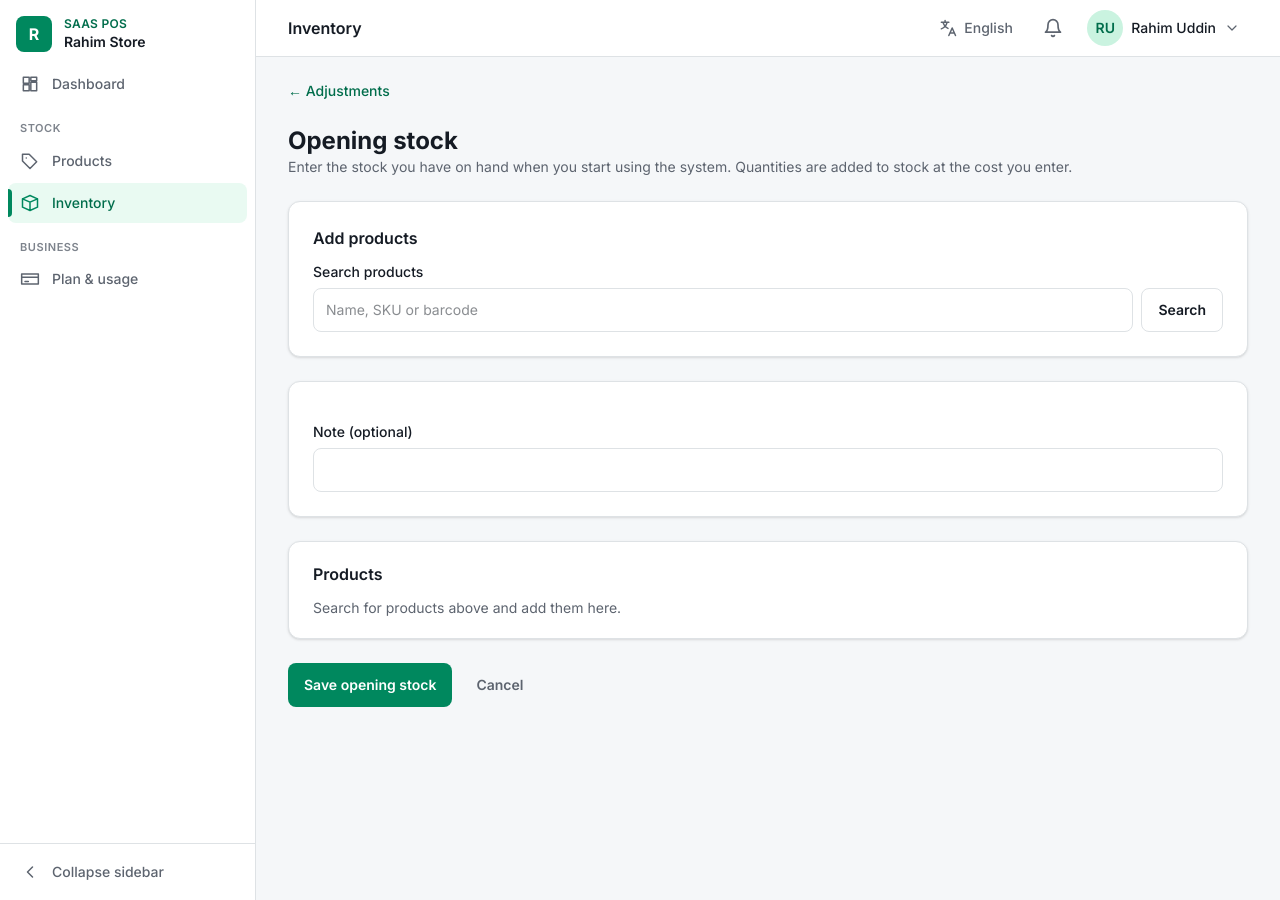
Test: inventory › posts opening stock with positive lines, cost and an Idempotency-Key
Type "rice" into the search field labelled "Search products". click: (723,310)
box: top-left (313, 288), bottom-right (1134, 332)
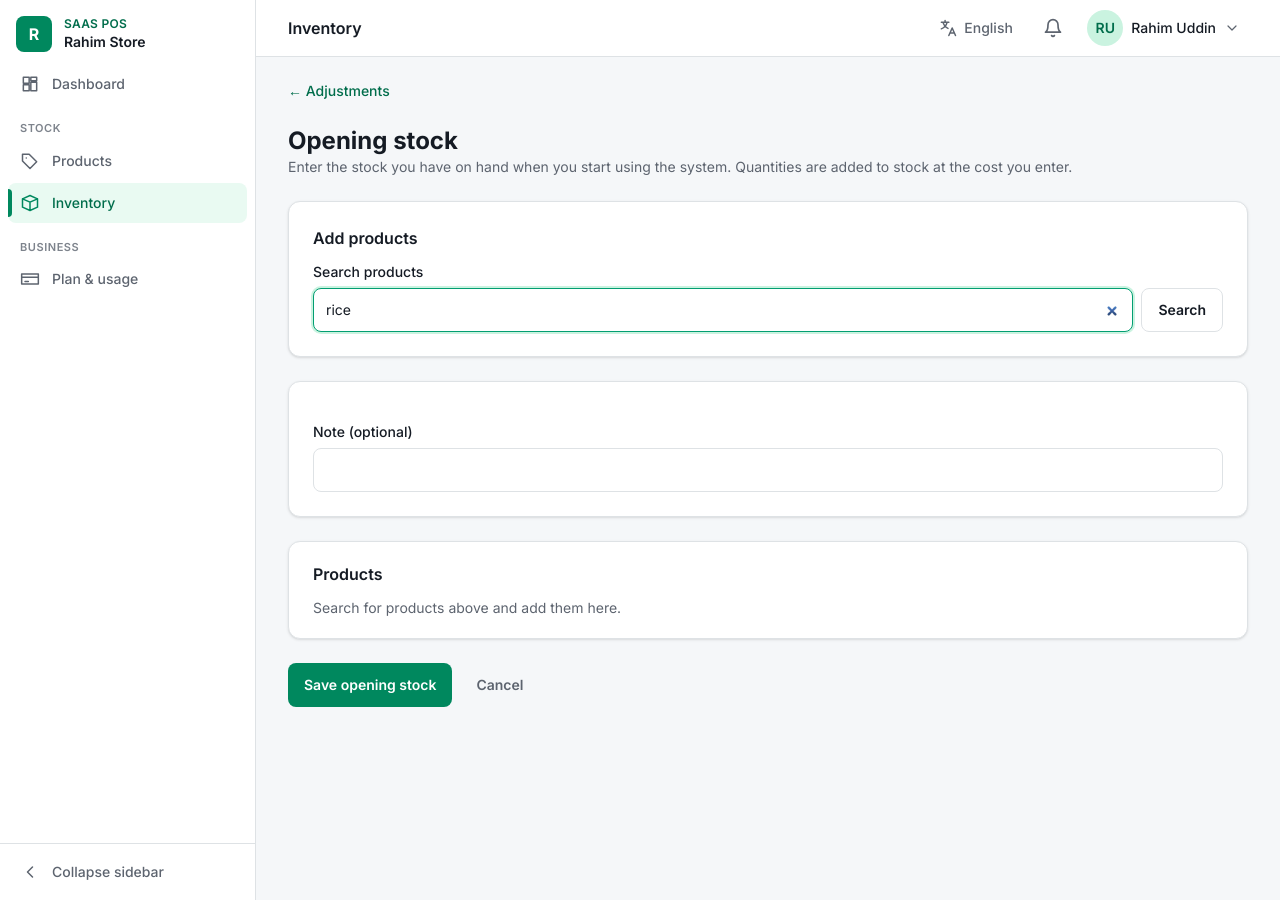
Click the button "Search". click: (1182,310)
box: top-left (1142, 288), bottom-right (1223, 332)
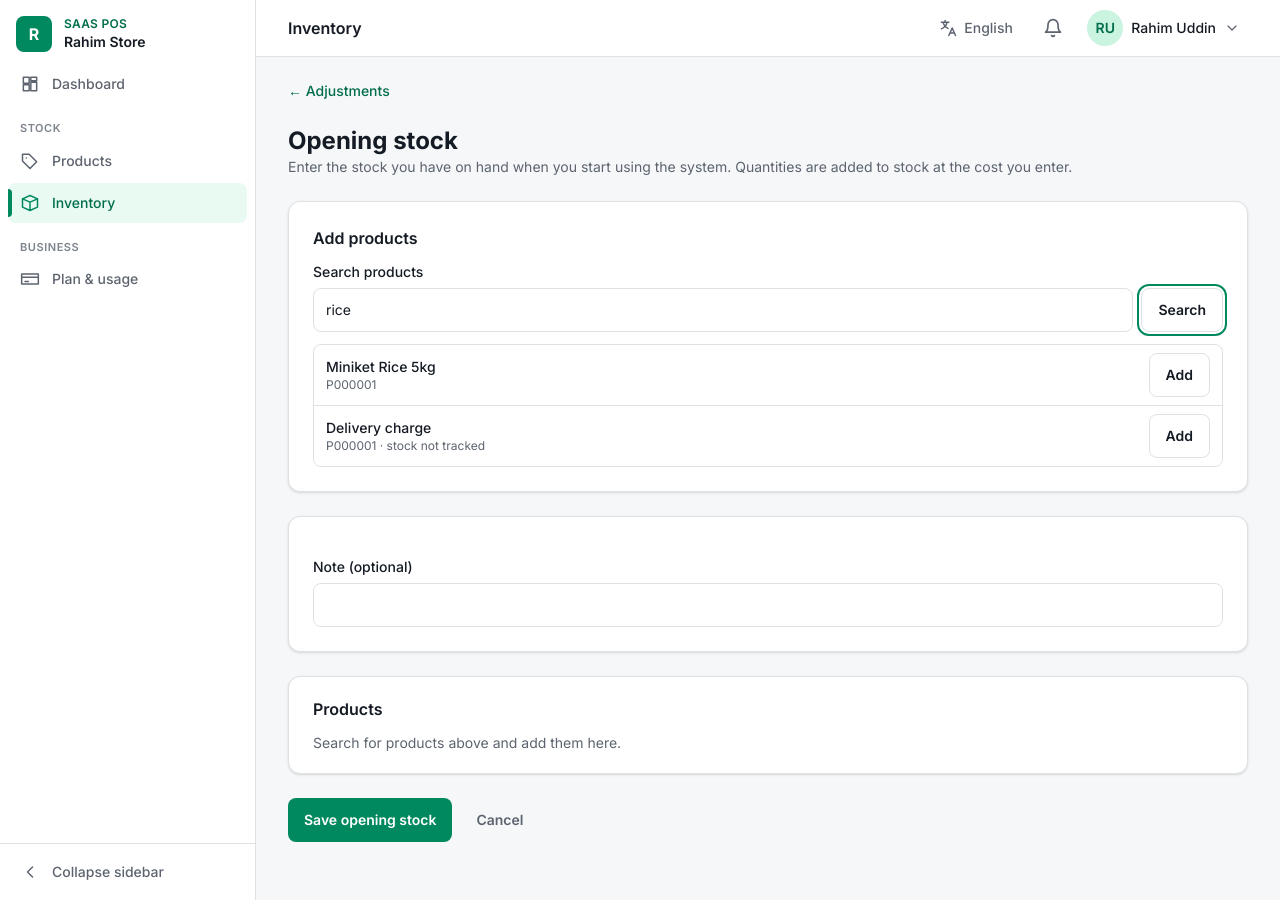
Click the button with aria-label "Add Delivery charge". click: (1179,436)
box: top-left (1148, 414), bottom-right (1210, 458)
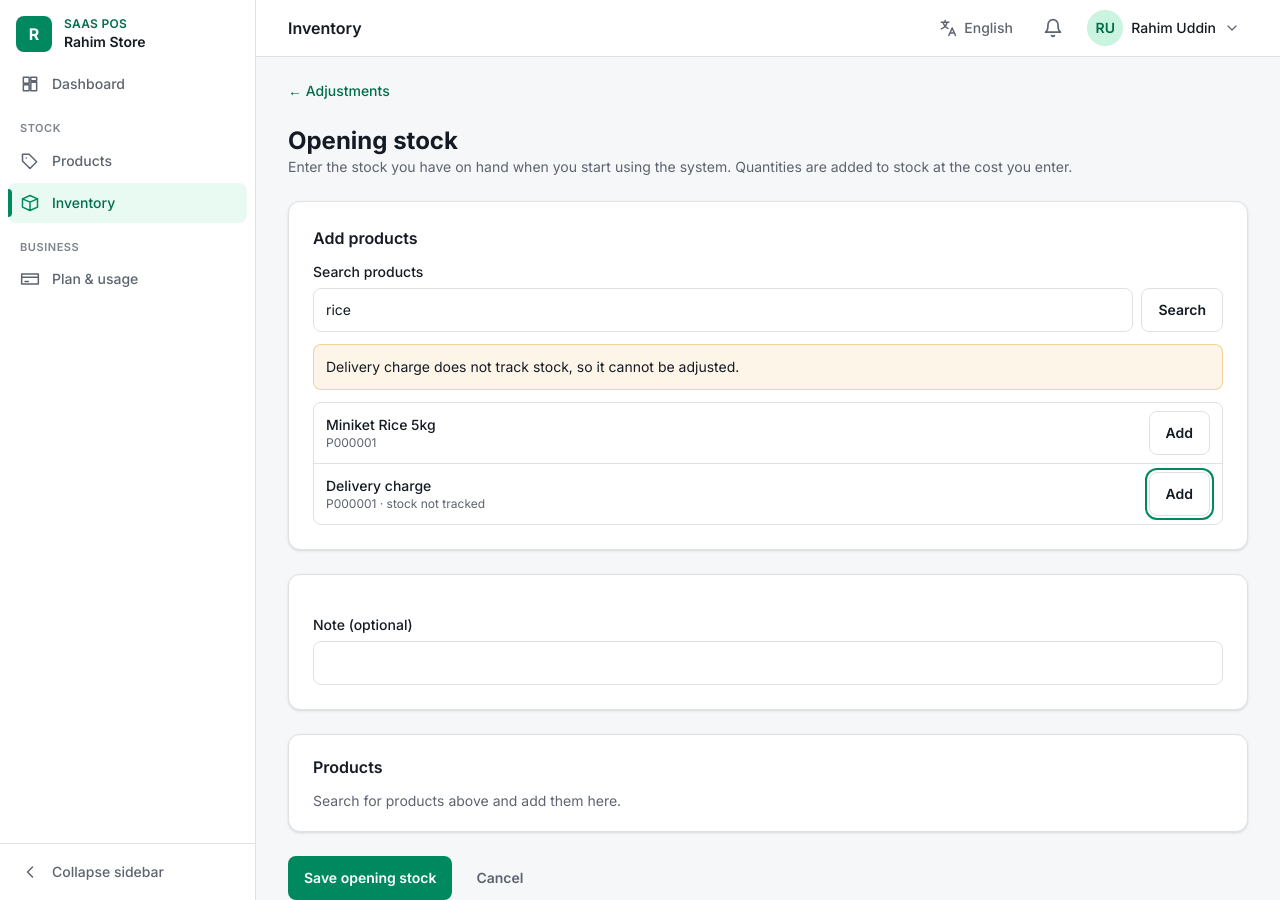
Expected: the text "Delivery charge does not track stock, so it cannot be adjusted." is shown, top-left (313, 344), bottom-right (1223, 390)
Click the button with aria-label "Add Miniket Rice 5kg". click: (1179,433)
box: top-left (1148, 411), bottom-right (1210, 455)
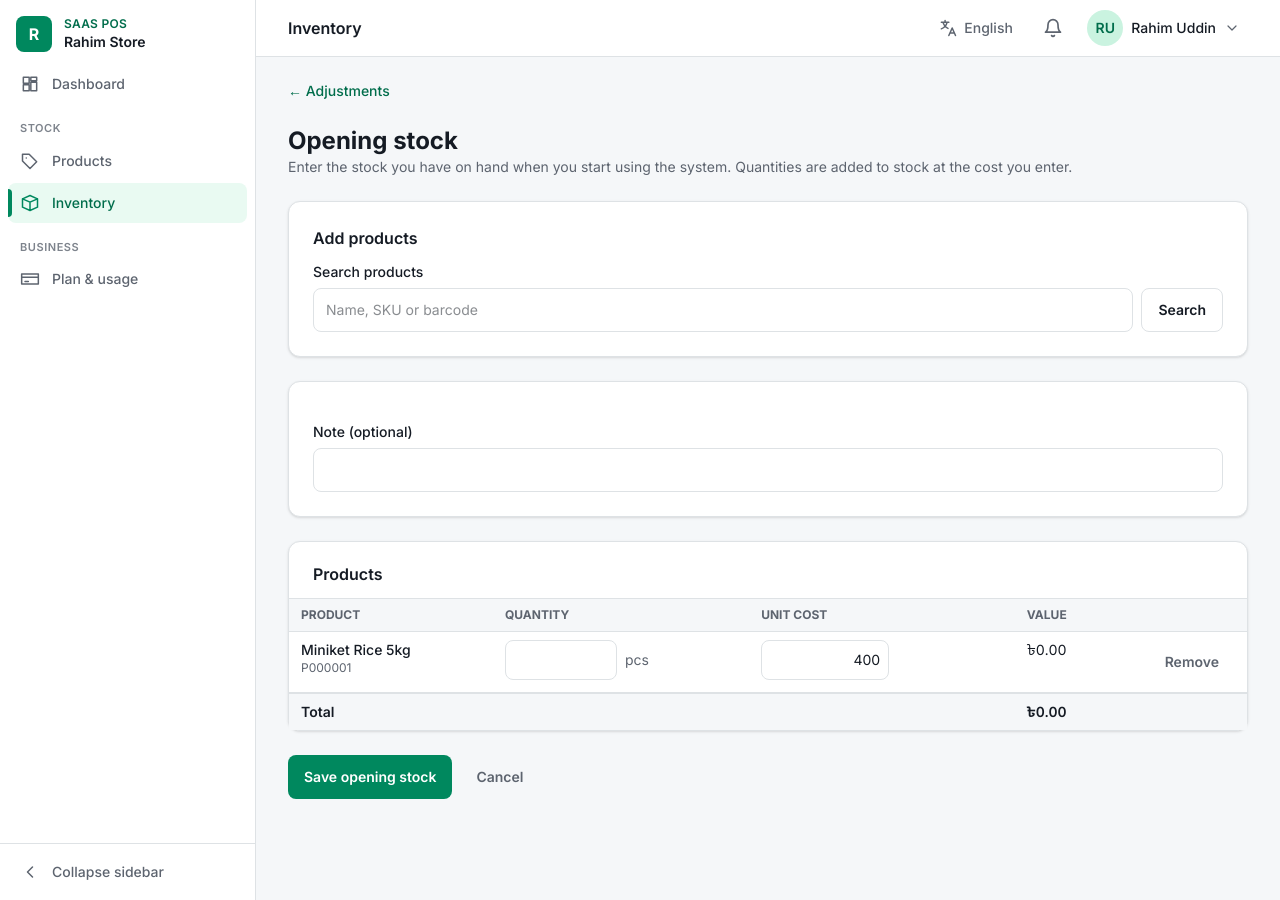
Expected: the field named "Unit cost for Miniket Rice 5kg" holds "400", top-left (761, 640), bottom-right (889, 680)
Type "10" into the field named "Quantity for Miniket Rice 5kg". click: (561,660)
box: top-left (505, 640), bottom-right (617, 680)
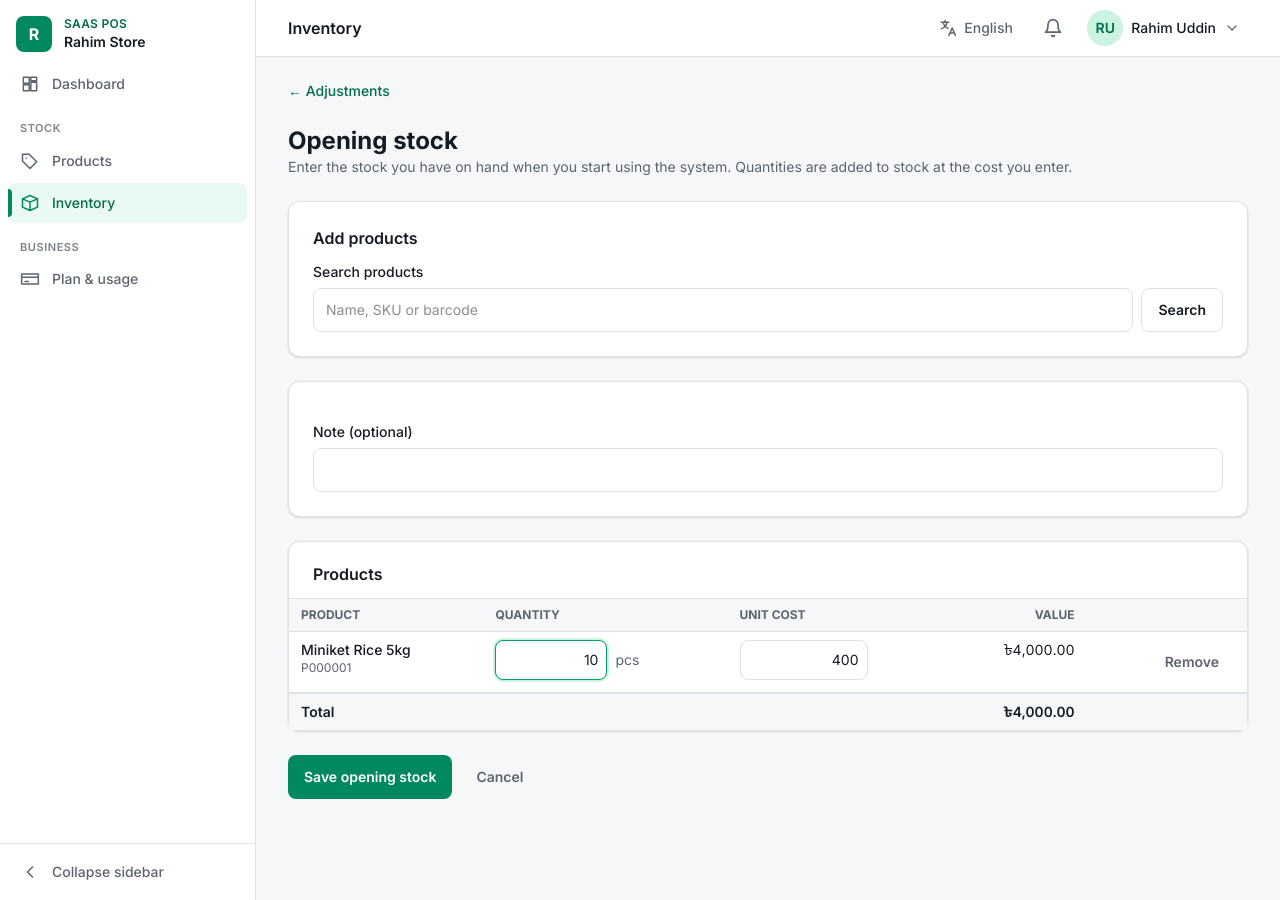
Click the button "Save opening stock". click: (370,777)
box: top-left (288, 755), bottom-right (452, 799)
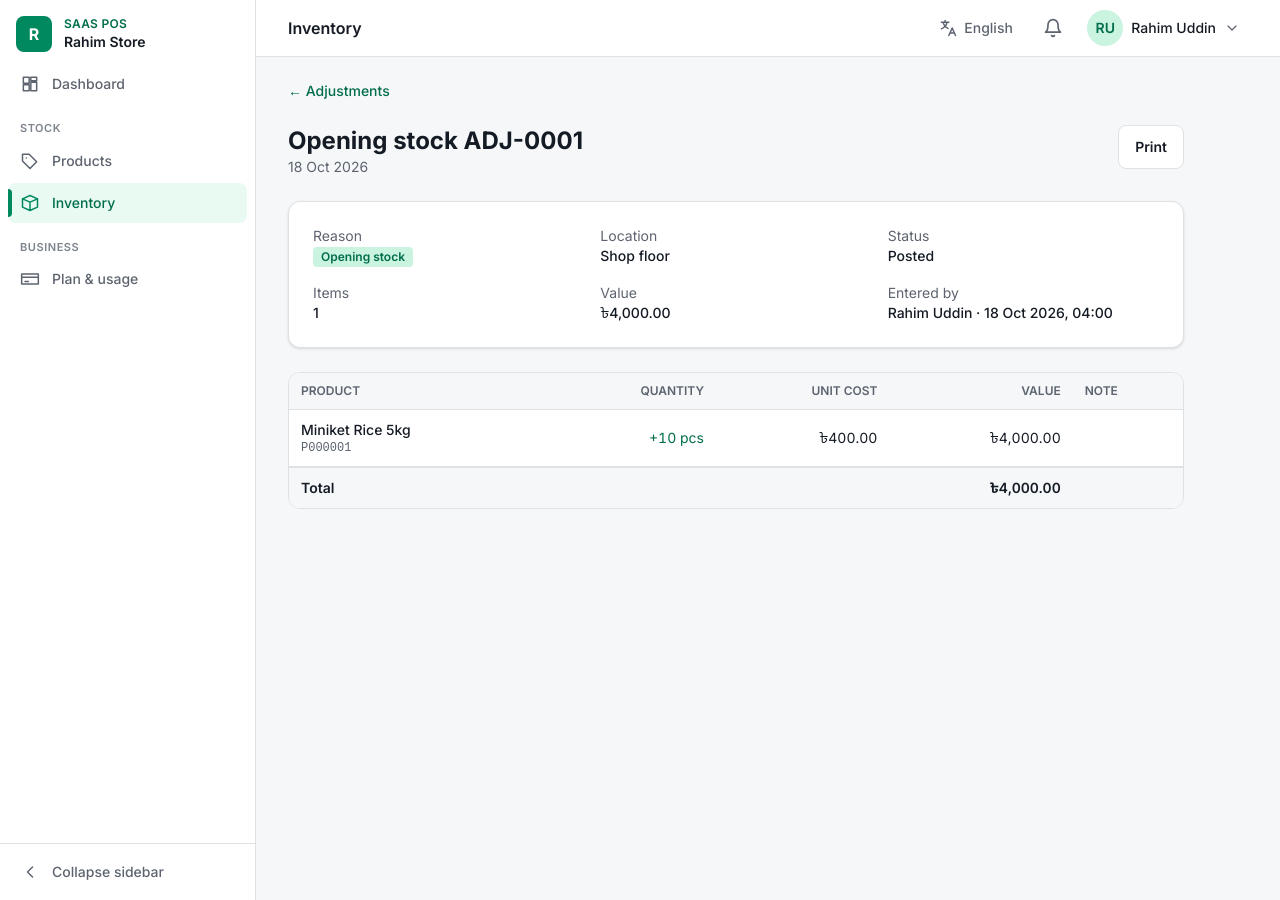
Expected: the heading "Opening stock ADJ-0001" is shown, top-left (288, 125), bottom-right (583, 157)
